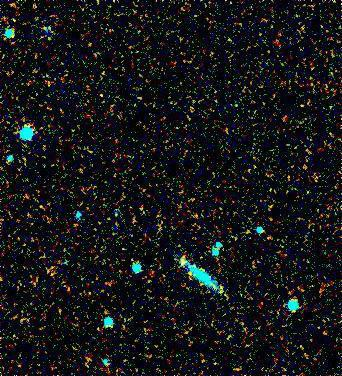star: (166, 245, 196, 275)
